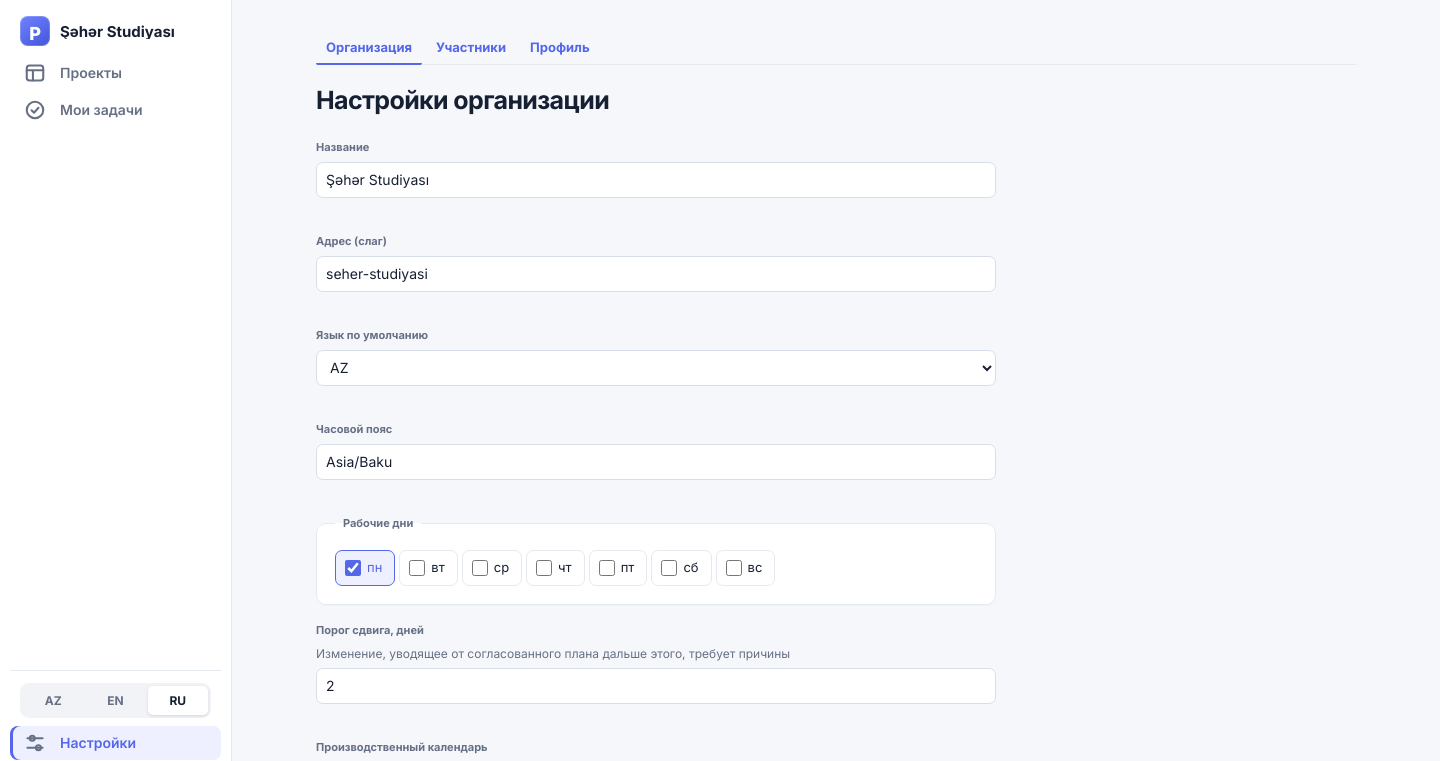
Test: настройки организации › последний рабочий день недели снять нельзя
Click the checkbox labelled "пн": {"x": 353, "y": 568} x1=345 y1=560 x2=361 y2=576
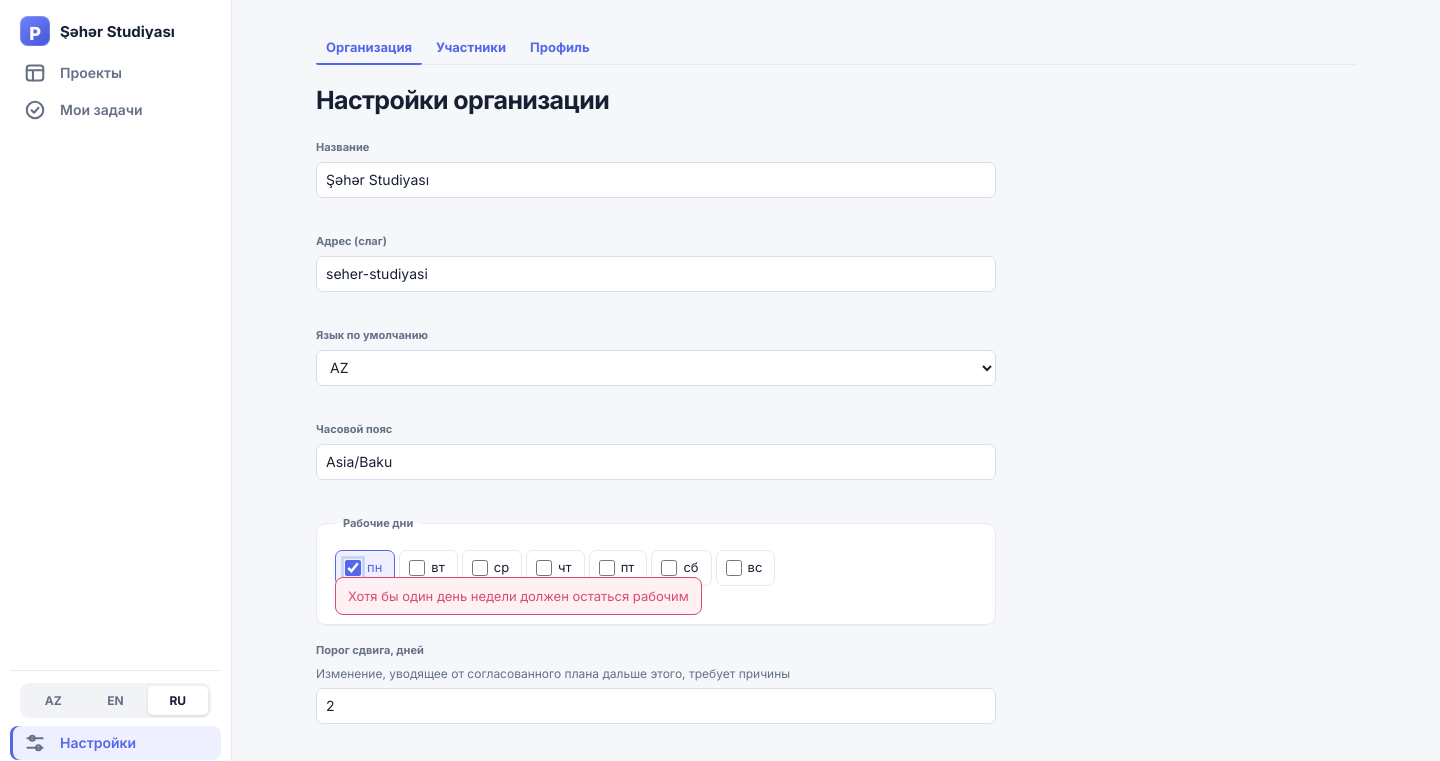
Expected: the message shows "Хотя бы один день", x1=348 y1=588 x2=689 y2=604
